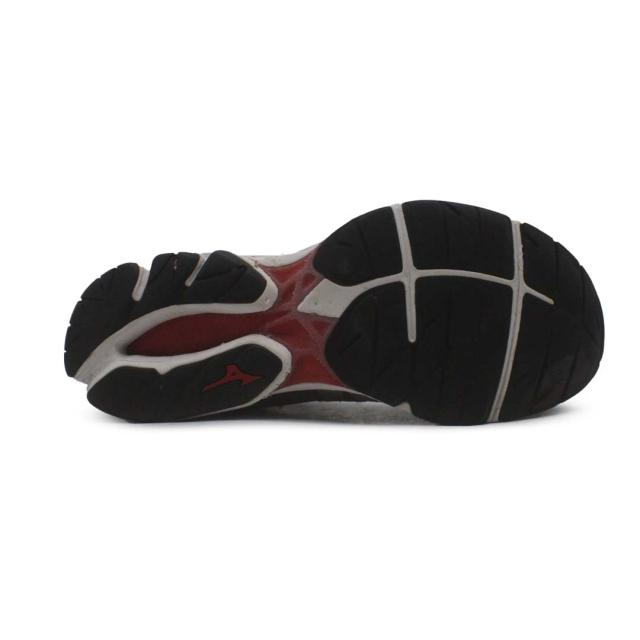outersole: (65, 197, 605, 429)
